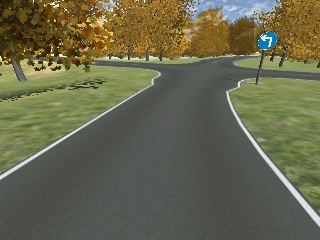left: (258, 32, 278, 49)
